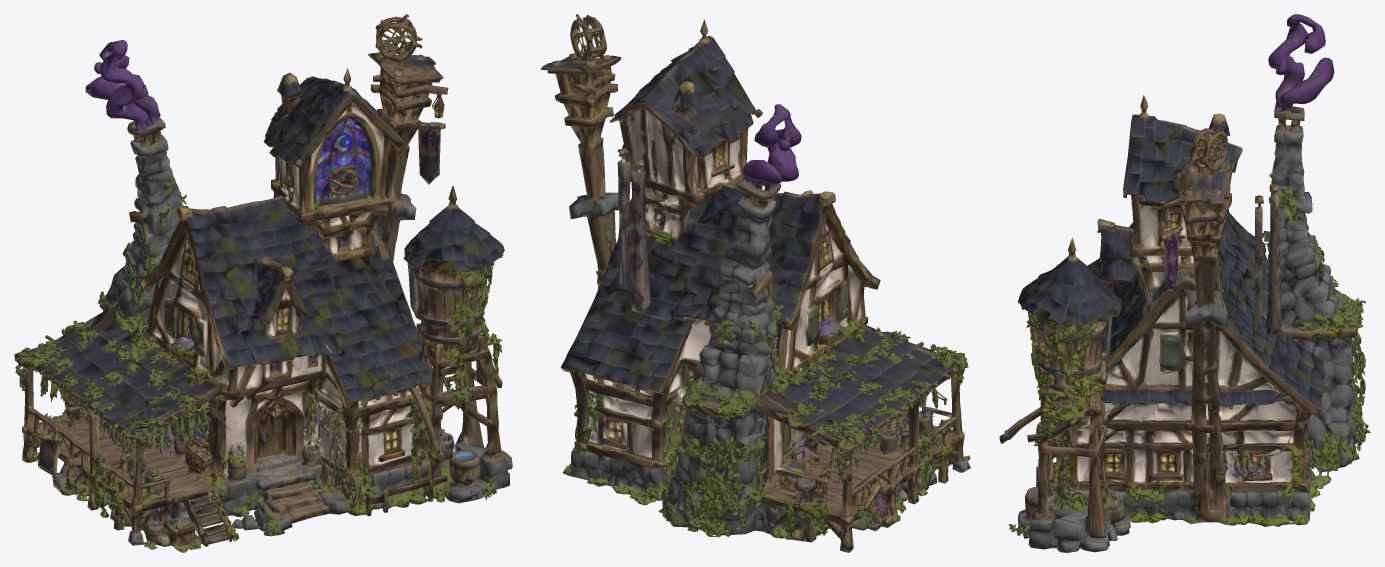
File: farmhouse.glb
3 renders of one model, left to right at view 1: azimuth 30°, elevation 25°; view 2: azimuth 150°, elevation 25°; view 3: azimuth 270°, elevation 25°, orthographic.
Size of the model in its own units: 1.77 by 1.9 by 1.56.
Materials: 1 (1 with a texture image).
